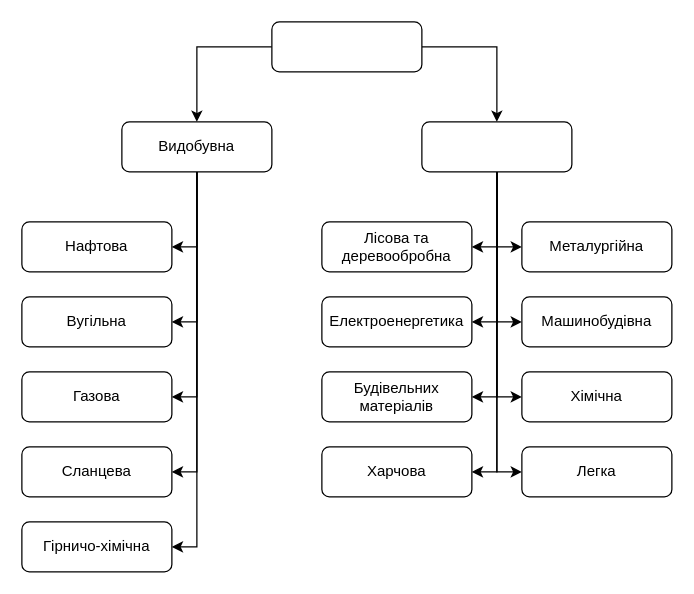
Image size: 694x594. Some labels were removed from this diagram. The box of each missing label's shape, as (x1, y1, x2, y2) in pixels:
Обробна: (421, 121, 572, 172)
Промисловість: (271, 21, 422, 72)
